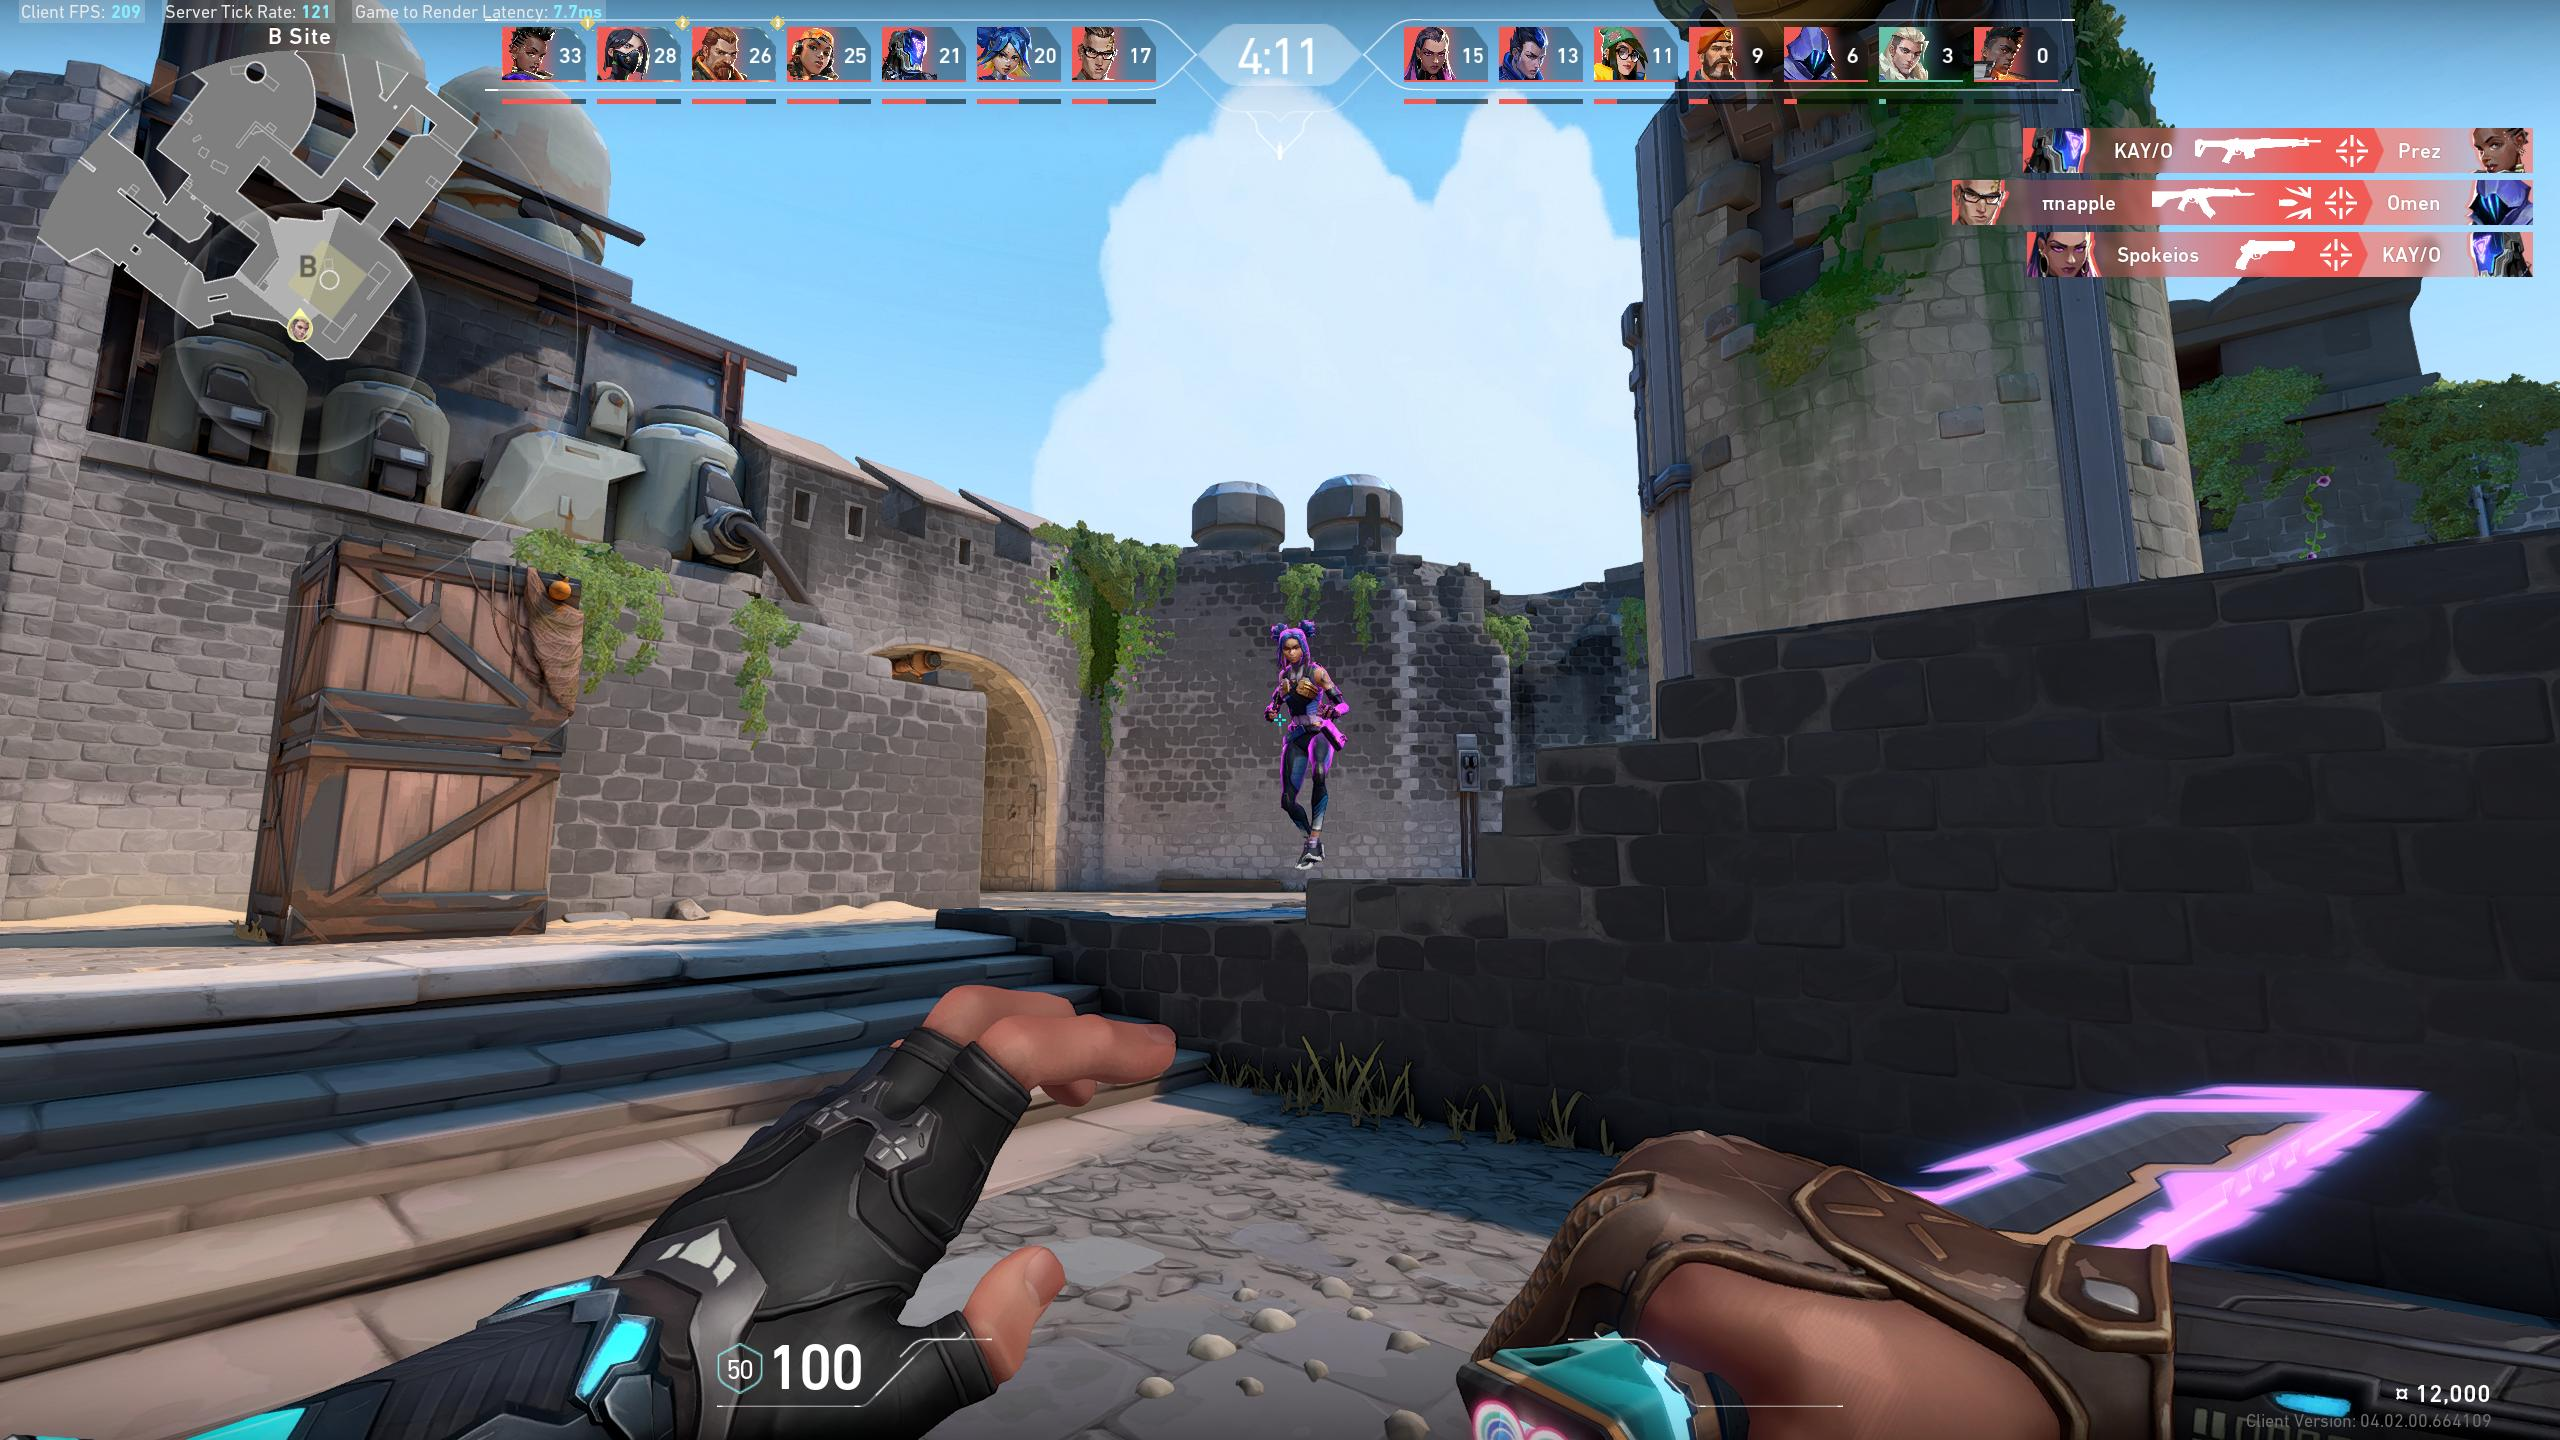enemyBody: (1284, 675, 1322, 721)
enemyHead: (1282, 633, 1305, 665)
